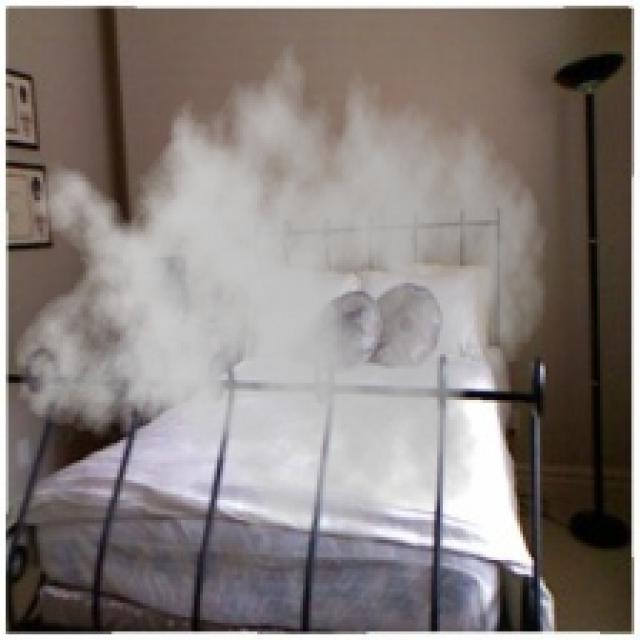smoke: (11, 20, 548, 569)
